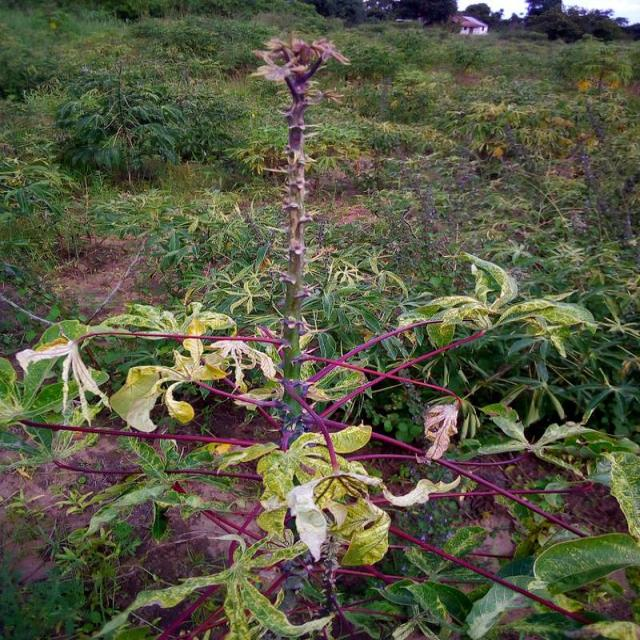cassava leaf: (532, 531, 639, 595)
